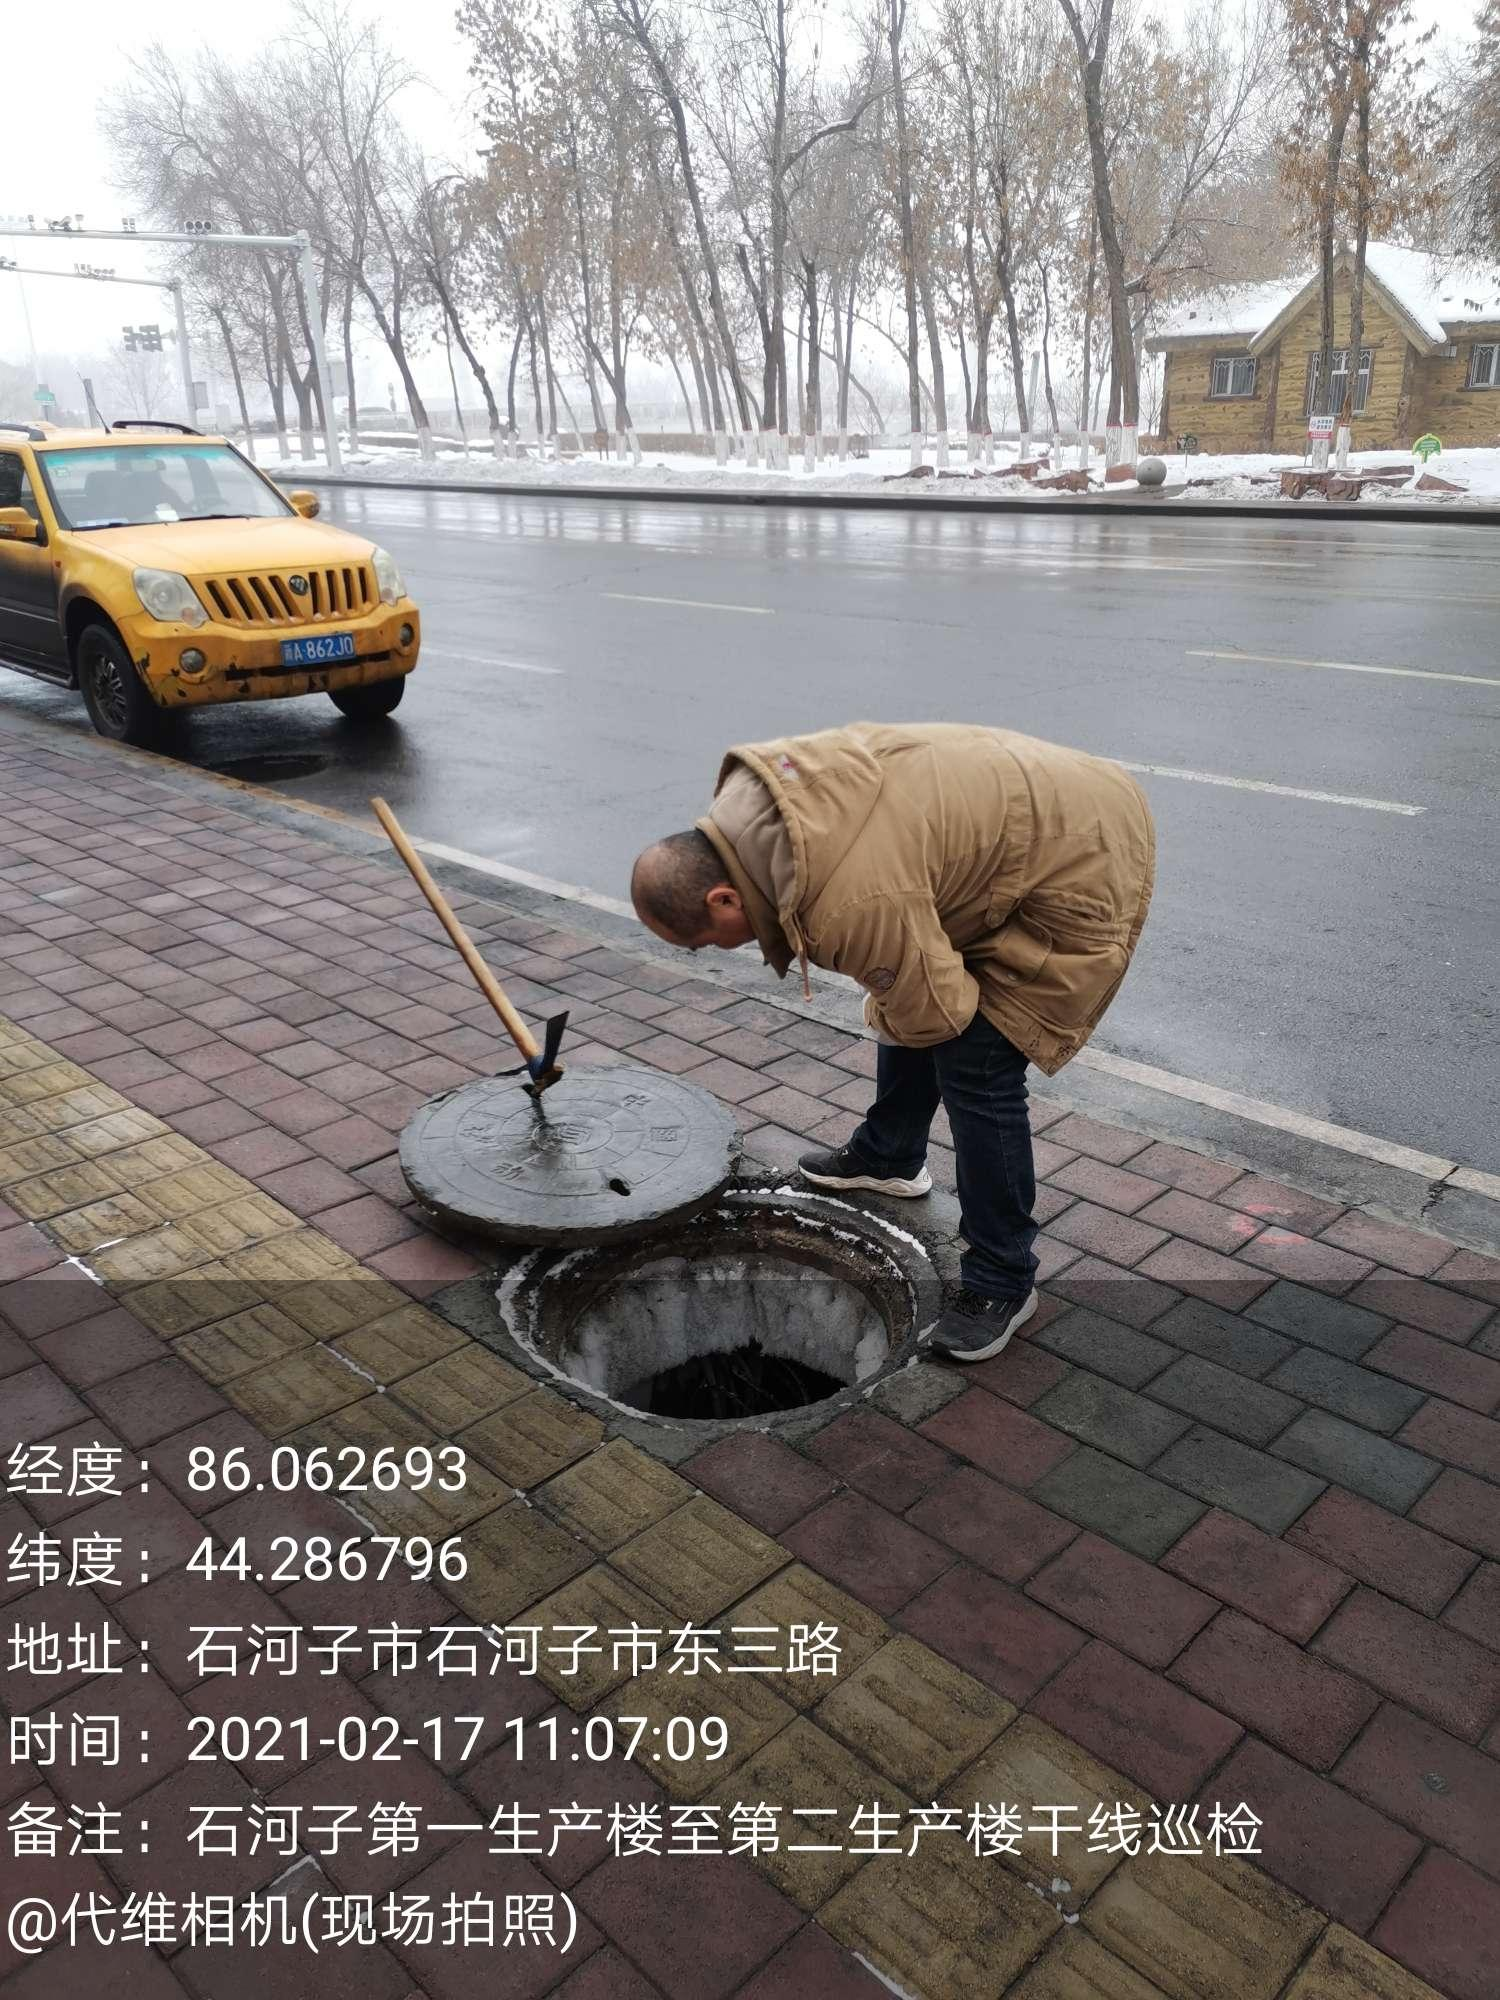wellcover: (252, 1017, 1002, 1472)
